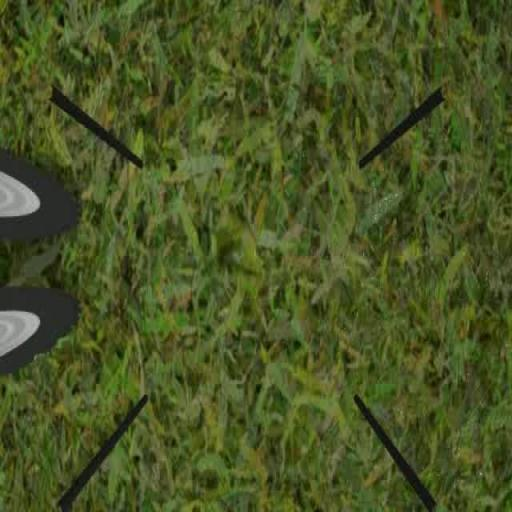UGV: (0, 138, 88, 368)
